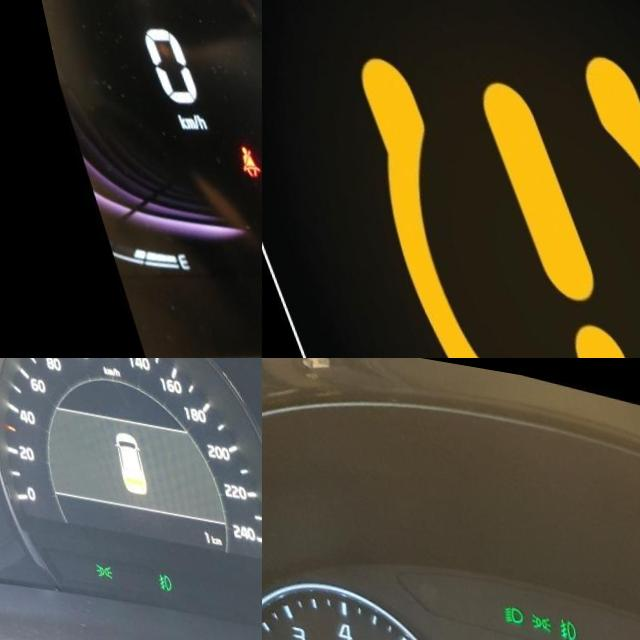FrontFogLight: (544, 604, 567, 630), (136, 558, 152, 577)
LaneCenteringOff: (623, 628, 640, 640)
Low beam: (489, 593, 514, 616)
SideLamp: (517, 600, 541, 622), (73, 551, 93, 568)
